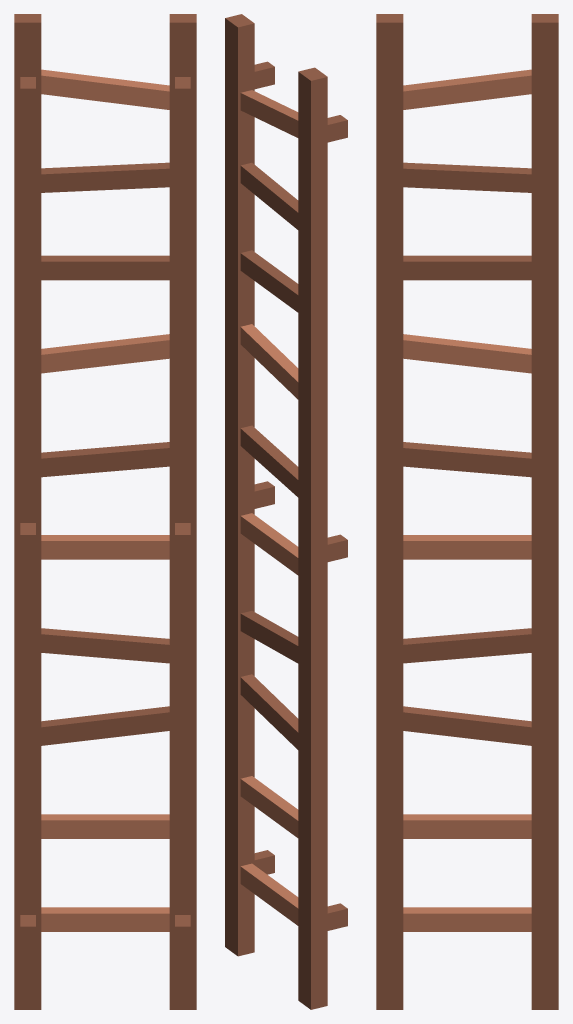
File: Ladder A.glb
3 renders of one model, left to right at view 1: azimuth 90°, elevation 25°; view 2: azimuth 210°, elevation 25°; view 3: azimuth 270°, elevation 25°, orthographic. The views are drawn at different scales.
Visible parts, largest first — view 1: Ladder A; view 2: Ladder A; view 3: Ladder A.
Part boxes in pixels (x1,y1,x2,y2): Ladder A: (14,14,196,1009); Ladder A: (225,14,347,1009); Ladder A: (376,14,558,1009).
Size of the model in its own units: 30.49 by 682 by 114.
